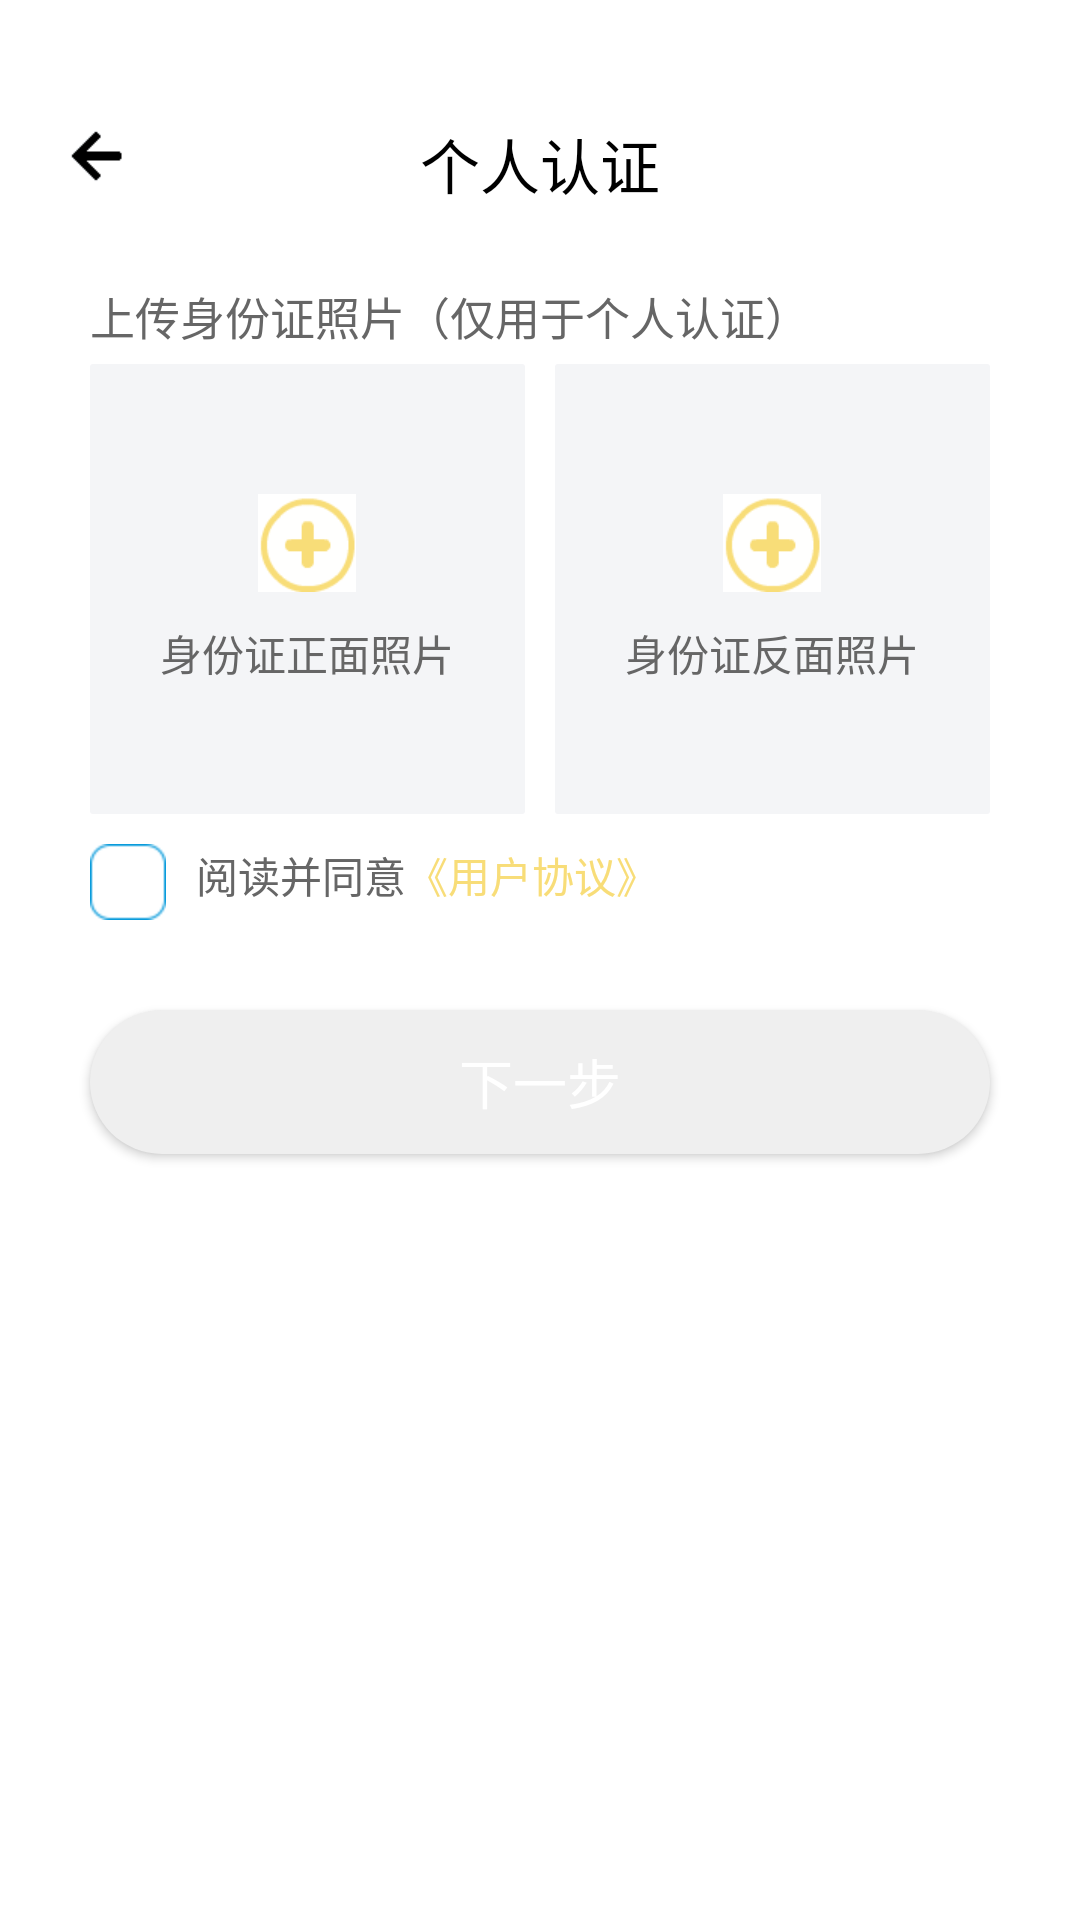

Where icons sit on this 1080 × 1920 app screen, as (x1, y1, x2, y2):
back: (71, 131, 122, 181)
register checkbox style: (90, 844, 166, 920)
